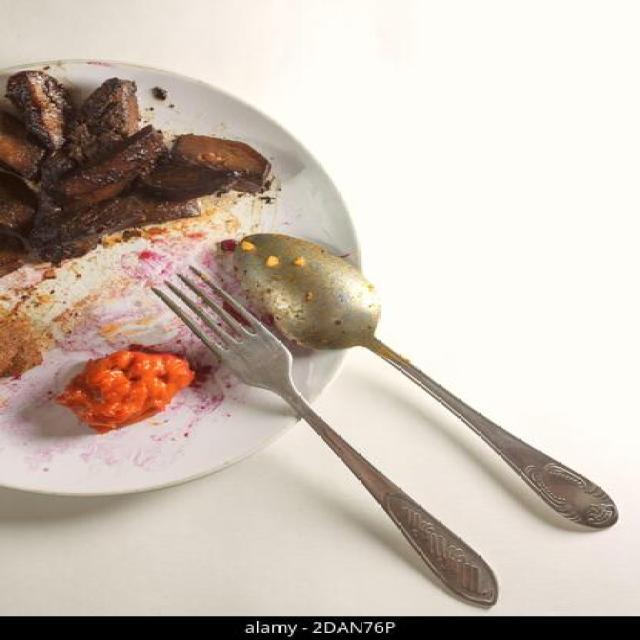Wet: (62, 342, 200, 424), (148, 128, 274, 197), (4, 70, 80, 154)
